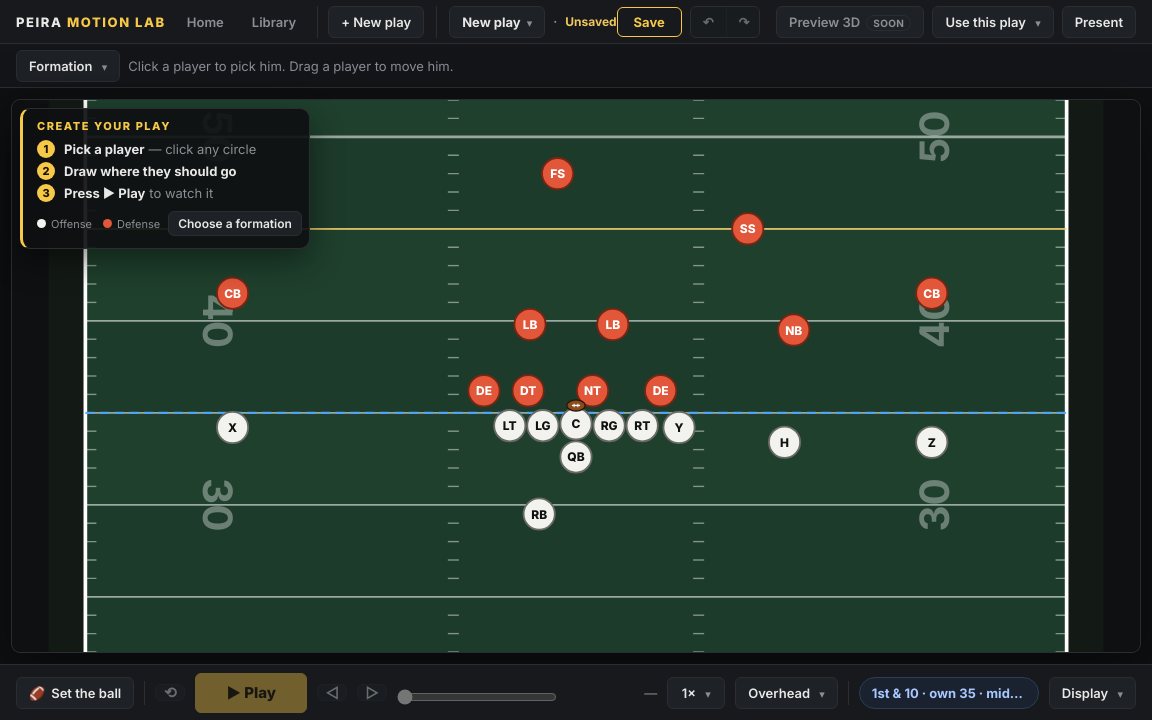
Test: Use this play: what was already made from it › the unsaved scratch play has nothing made from it to ask about
What coordinates should you click on to do the following:
click the button "Use this play ▾"
I would click on:
 (993, 22)
Its box is [932,6,1054,38].
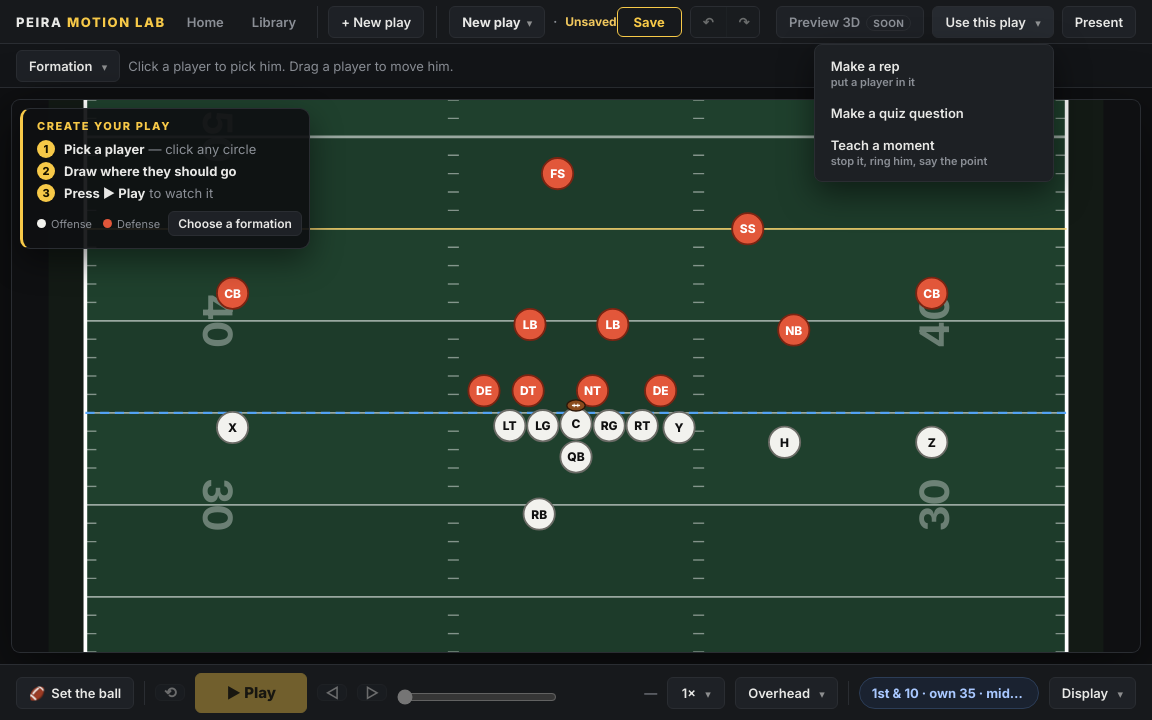
Now the menu named "Use this play" is shown, box [814,44,1054,182]
